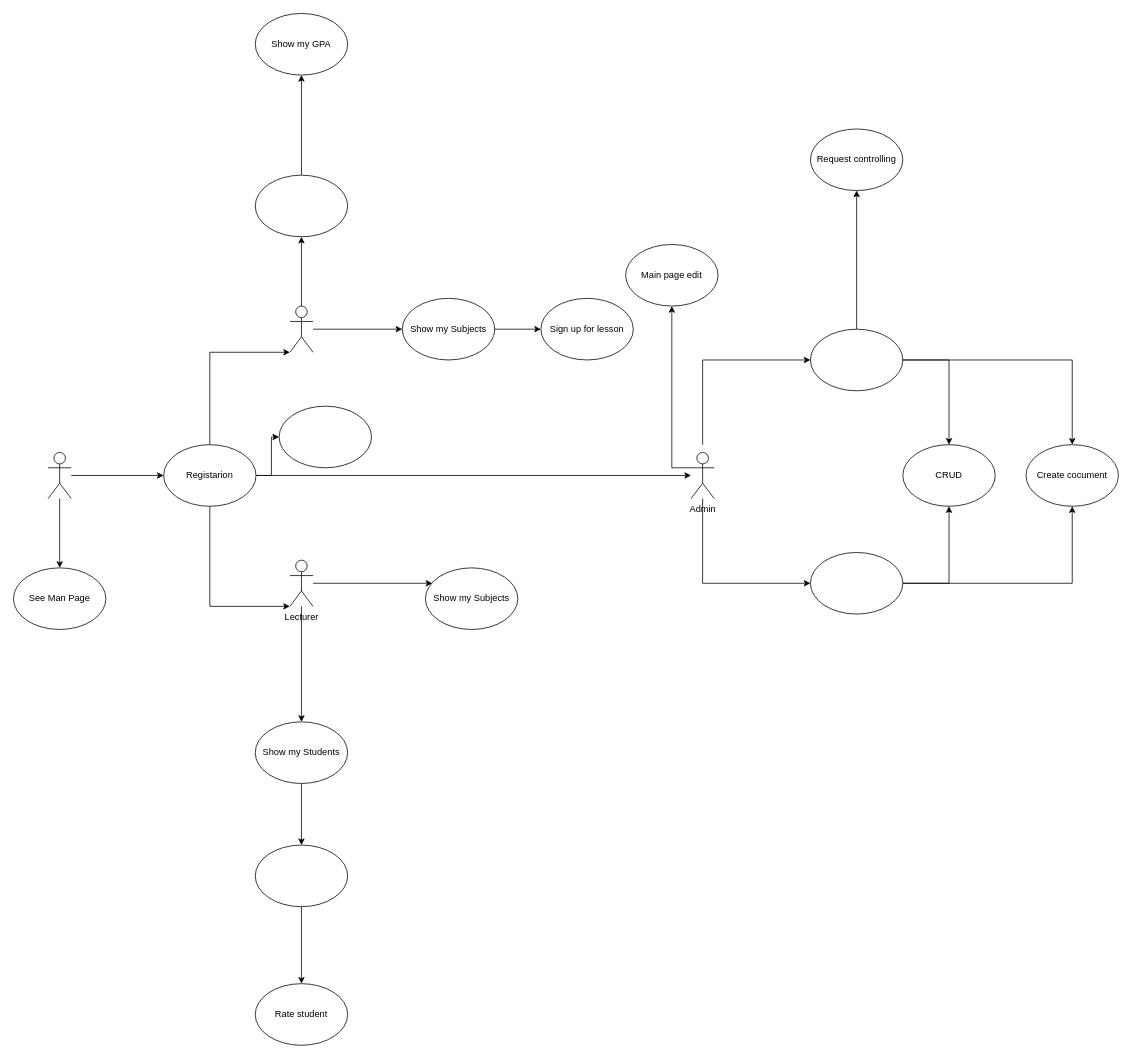
Some shapes in this 1132 by 1059 pixel diagram are drawn without their labels. The shapes that lost their labels are listed below. From the top down, each one's centre as x and y in pixels, then its label:
At (x=301, y=205): "Show my grades".
At (x=301, y=328): "Student".
At (x=856, y=359): "Students".
At (x=325, y=436): "Person Area".
At (x=59, y=475): "Person".
At (x=856, y=583): "Lecturers".
At (x=301, y=875): "Show student's grades".
